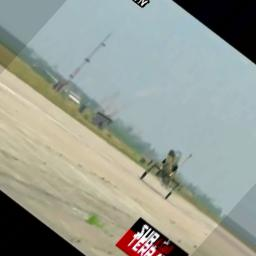Airplane: (137, 148, 194, 199)
